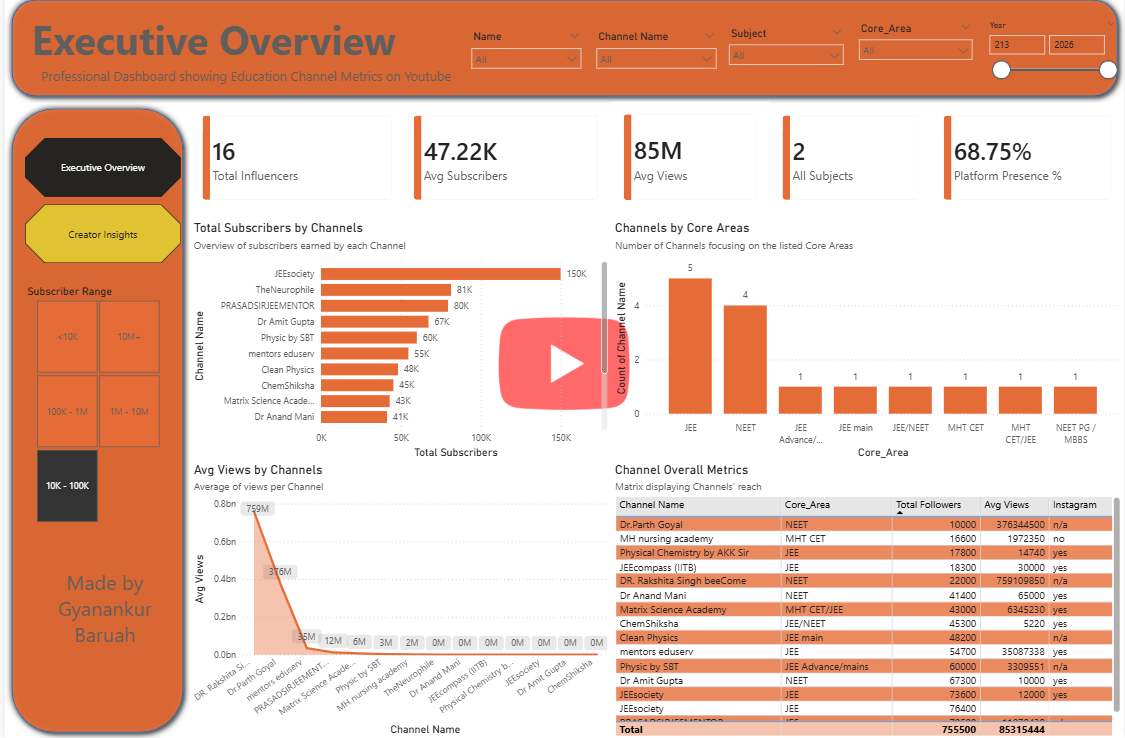

The dashboard page shown, as its layout file describes it:
{"tool":"powerbi","page":{"name":"Executive Overview","canvas":[1500,1000],"ordinal":0},"visuals":[{"type":"shape","box":[0,145.8,248,854.6],"z":0},{"type":"shape","box":[0,0,1500.3,147.4],"z":1000},{"type":"tableEx","title":"Channel Overall Metrics","fields":{"Values":["Sheet1.Channel Name","Sheet1.Core_Area","Measures (2).Total Followers","Measures (2).Avg Views","Sheet1.Instagram","Sheet1.Telegram","Sheet1.LinedIn","Sheet1.Channel Link","Measures (2).Influence Efficiency"]},"box":[812.7,616.6,687,383.7],"z":2000},{"type":"cardVisual","fields":{"Data":["Measures (2).Total Influencers"]},"box":[248,147.5,288.2,147.5],"z":3000},{"type":"cardVisual","fields":{"Data":["Measures (2).Avg Views"]},"box":[812.7,145.8,212.8,149.1],"z":4000},{"type":"cardVisual","fields":{"Data":["Avg(Sheet1.Follower/Subscriber_count)"]},"box":[531.2,147.5,281.5,147.5],"z":5000},{"type":"cardVisual","fields":{"Data":["Count(Sheet1.All Subjects)"]},"box":[1025.5,147.5,216.2,147.5],"z":6000},{"type":"cardVisual","fields":{"Data":["Measures (2).Platform Presence %"]},"box":[1241.6,147.5,258,147.5],"z":7000},{"type":"clusteredBarChart","title":"Total Subscribers by Channels","fields":{"Category":["Sheet1.Channel Name"],"Y":["Sum(Sheet1.Follower/Subscriber_count)"]},"box":[248,305,564.7,323.4],"z":8000},{"type":"pageNavigator","box":[26.8,194.4,209.5,169.2],"z":9000},{"type":"actionButton","box":[31.8,21.8,583.1,68.7],"z":10000},{"type":"slicer","fields":{"Values":["Sheet1.Channel_Start_Date.Variation.Date Hierarchy.Year"]},"box":[1307.2,31,192.8,88.2],"z":11000},{"type":"slicer","fields":{"Values":["Sheet1.Core_Area"]},"box":[1134.4,33.5,172.6,72.1],"z":12000},{"type":"slicer","fields":{"Values":["Sheet1.Subject"]},"box":[960.1,40.2,174.3,58.6],"z":13000},{"type":"slicer","fields":{"Values":["Sheet1.Channel Name"]},"box":[782.5,45.2,181,60.3],"z":14000},{"type":"slicer","fields":{"Values":["Sheet1.Name"]},"box":[614.9,45.2,167.6,68.7],"z":15000},{"type":"columnChart","title":"Channels by Core Areas","fields":{"Category":["Sheet1.Core_Area"],"Y":["Count(Sheet1.Channel Name)"]},"box":[812.7,305,687,323.4],"z":16000},{"type":"areaChart","title":"Avg Views by Channels","fields":{"Category":["Sheet1.Channel Name"],"Y":["Measures (2).Avg Views"]},"box":[248,628.4,564.7,372],"z":17000},{"type":"actionButton","box":[31.8,90.5,583.1,41.9],"z":18000},{"type":"actionButton","box":[31.8,732.2,204.4,184.3],"z":19000},{"type":"slicer","fields":{"Values":["Sheet1.Subscriber Range"]},"box":[16.8,387.1,214.5,328.4],"z":20000}]}

Visuals, with their boxes in screenshot pixels (x1, y1, x2, y2), scaled from the page's 1500x1000 canvas onto the 1125x738 screenshot:
shape: [left=0, top=108, right=186, bottom=737]
shape: [left=0, top=0, right=1124, bottom=109]
"Channel Overall Metrics" tableEx: [left=610, top=455, right=1124, bottom=737]
cardVisual - Measures (2).Total Influencers: [left=186, top=109, right=402, bottom=218]
cardVisual - Measures (2).Avg Views: [left=610, top=108, right=769, bottom=218]
cardVisual - Avg(Sheet1.Follower/Subscriber_count): [left=398, top=109, right=610, bottom=218]
cardVisual - Count(Sheet1.All Subjects): [left=769, top=109, right=931, bottom=218]
cardVisual - Measures (2).Platform Presence %: [left=931, top=109, right=1124, bottom=218]
"Total Subscribers by Channels" clusteredBarChart: [left=186, top=225, right=610, bottom=464]
pageNavigator: [left=20, top=143, right=177, bottom=268]
actionButton: [left=24, top=16, right=461, bottom=67]
slicer - Sheet1.Channel_Start_Date.Variation.Date Hierarchy.Year: [left=980, top=23, right=1124, bottom=88]
slicer - Sheet1.Core_Area: [left=851, top=25, right=980, bottom=78]
slicer - Sheet1.Subject: [left=720, top=30, right=851, bottom=73]
slicer - Sheet1.Channel Name: [left=587, top=33, right=723, bottom=78]
slicer - Sheet1.Name: [left=461, top=33, right=587, bottom=84]
"Channels by Core Areas" columnChart: [left=610, top=225, right=1124, bottom=464]
"Avg Views by Channels" areaChart: [left=186, top=464, right=610, bottom=737]
actionButton: [left=24, top=67, right=461, bottom=98]
actionButton: [left=24, top=540, right=177, bottom=676]
slicer - Sheet1.Subscriber Range: [left=13, top=286, right=173, bottom=528]
